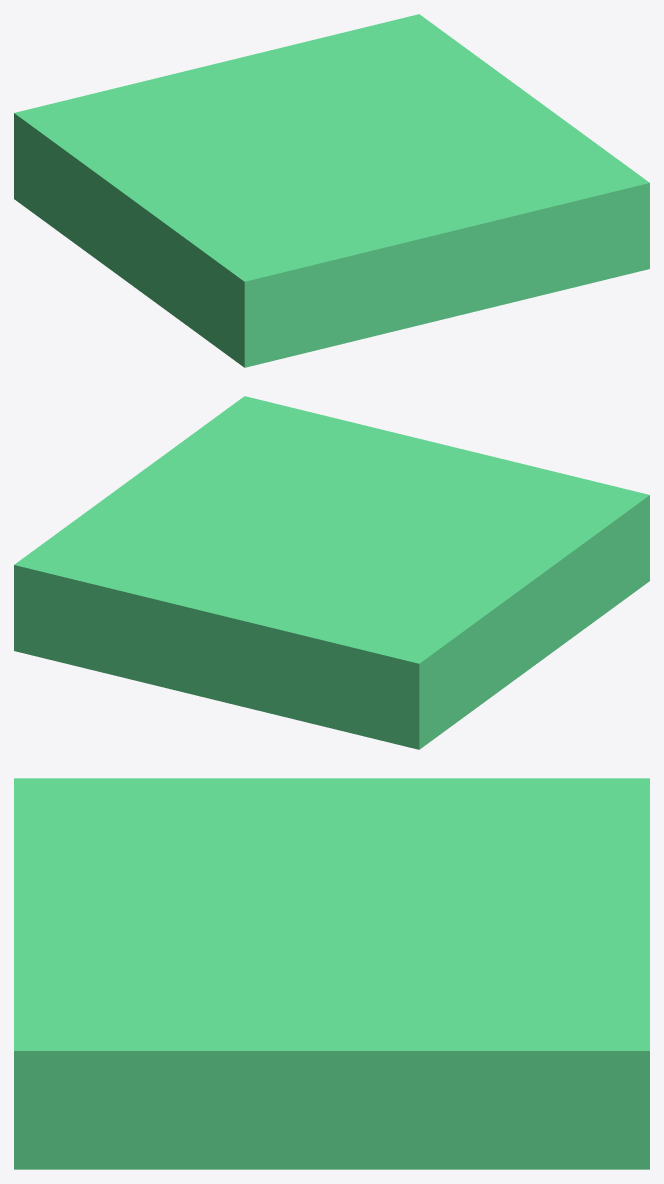
File: rubble_pile_b.glb
The picture shows the model from 3 angles, top to bottom: view 1: azimuth 30°, elevation 25°; view 2: azimuth 150°, elevation 25°; view 3: azimuth 270°, elevation 25°; orthographic projection. The views are drawn at different scales.
Visible parts, largest first — view 1: rubble_pile_b-col; view 2: rubble_pile_b-col; view 3: rubble_pile_b-col.
Boxes of the visible parts, bbox=[...] form: rubble_pile_b-col: bbox=[14, 14, 649, 367]; rubble_pile_b-col: bbox=[14, 396, 649, 749]; rubble_pile_b-col: bbox=[14, 778, 649, 1169].
Bounding box in the file's own units: 2.84 × 0.5772 × 2.8.
